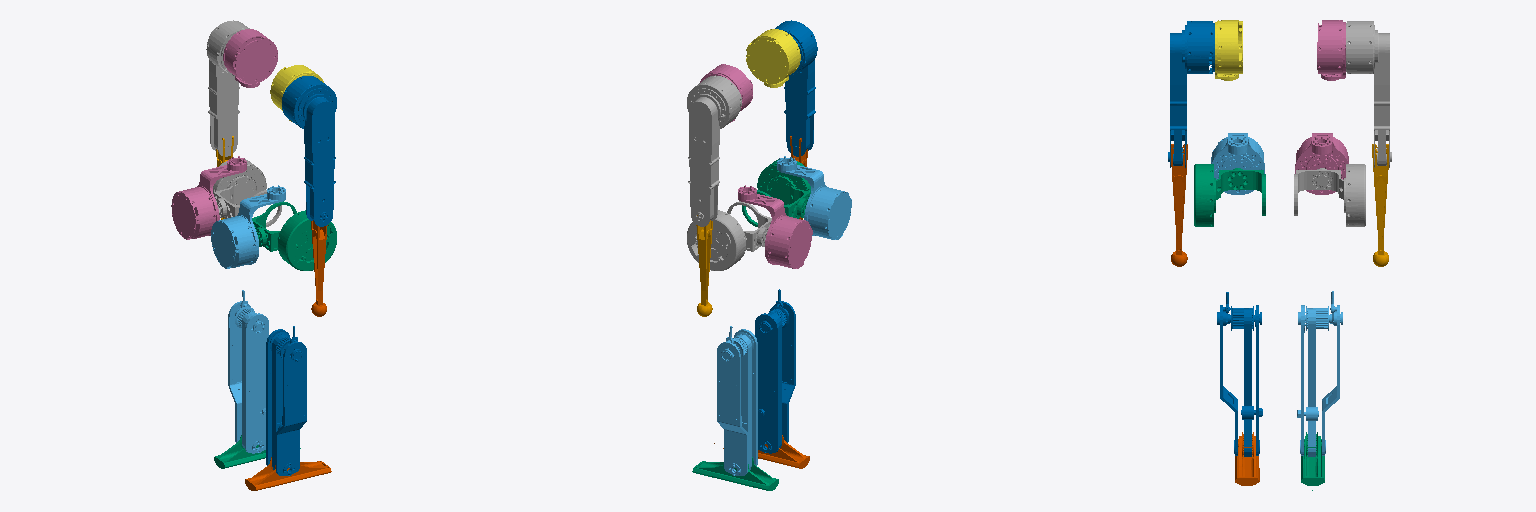
robot.urdf — humanoid:
<?xml version="1.0" encoding="utf-8"?>
<robot name="humanoid">
  <!-- ===== DUMMY 'BASE' LINK ==== -->
  <link name="torso">
    <inertial>
      <mass value="6.5"/>
      <origin xyz="0.0 0.0 0.15"/>
      <inertia ixx="0.3006167" ixy="0" ixz="0" iyy="0.23837" iyz="0" izz="0.09690467"/>
    </inertial>
    <visual>
      <geometry>
         <mesh filename="package://ocs2_robotic_assets/resources/humanoid/meshes_zidong_obj/Body.obj" scale="1 1 1"/>
      </geometry>
      <origin rpy="0 0 0" xyz="0 0 0"/>
    </visual>
  </link>
  <!--!!!!!!!!!!!!!!!!!!!!!RIGHT LEG!!!!!!!!!!!!!!!!!!!!!!!!!!!!!!!!!!!!!!!!!!!!!!!!-->
  <joint name="torso_to_R_HipRz" type="revolute">
    <axis xyz="0 0 1"/>
    <origin rpy="0 0 0" xyz="0.0 -0.075 0.0"/>
    <parent link="torso"/>
    <child link="R_HipRz"/>
    <limit lower="-3" upper="3" effort="33.6" velocity="55" />
  </joint>
  <link name="R_HipRz">
    <inertial>
      <mass value="0.30"/>
      <origin xyz="0.0 0.00 -0.04293"/>
      <inertia ixx="0.003735" ixy="0.0" ixz="0.0" iyy="0.01391" iyz="0.0" izz="0.01355"/>
    </inertial>
    <visual>
      <geometry>
         <mesh filename="package://ocs2_robotic_assets/resources/humanoid/meshes_zidong_obj/R_HipRz.obj" scale="1 1 1"/>
      </geometry>
      <origin rpy="0 0 0.0" xyz="0. 0. 0"/>
    </visual>
  </link>

  <joint name="R_HipRz_to_R_HipRx" type="revolute">
    <axis xyz="1 0 0"/>
    <origin rpy="0 0 0" xyz="-0.041 0.0 -0.0885"/>
    <parent link="R_HipRz"/>
    <child link="R_HipRx"/>
    <limit lower="-3" upper="3" effort="33.6" velocity="55" />
  </joint>
  <link name="R_HipRx">
    <inertial>
      <mass value="0.30"/>
      <origin xyz="0.0 0.0 -0.01"/>
      <inertia ixx="0.003735" ixy="0.0" ixz="0.0" iyy="0.01391" iyz="0.0" izz="0.01355"/>
    </inertial>
    <visual>
      <geometry>
         <mesh filename="package://ocs2_robotic_assets/resources/humanoid/meshes_zidong_obj/R_HipRx.obj" scale="1 1 1"/>
      </geometry>
      <origin rpy="0 -1.57 0.0" xyz="0. 0. 0"/>
    </visual>
  </link>

  <joint name="R_HipRx_to_R_Thigh" type="revolute">
    <axis xyz="0 1 0"/>
    <origin rpy="0 0 0" xyz="0.065 0.0 0.0"/>
    <parent link="R_HipRx"/>
    <child link="R_Thigh"/>
    <limit lower="-3" upper="3" effort="33.6" velocity="55" />
  </joint>
  <link name="R_Thigh">
    <inertial>
      <mass value="1.0"/>
      <origin xyz="0.0 0.0 -0.10"/>
      <inertia ixx="0.003735" ixy="0.0" ixz="0.0" iyy="0.01391" iyz="0.0" izz="0.01355"/>
    </inertial>
    <visual>
     <geometry>
          <mesh filename="package://ocs2_robotic_assets/resources/humanoid/meshes_zidong_obj/R_Thigh.obj" scale="1 1 1"/>
     </geometry>
      <origin rpy="0 1.57 -1.57" xyz="0.0 0.0 0.0"/>
    </visual>
  </link>

  <joint name="R_Knee" type="revolute">
    <axis xyz="0 1 0"/>
    <origin rpy="0 0 0" xyz="0.0 0.017875 -0.247"/>
    <parent link="R_Thigh"/>
    <child link="R_Shank"/>
    <limit lower="-3" upper="3" effort="33.6" velocity="55" />
  </joint>
  <link name="R_Shank">
    <inertial>
      <mass value="0.70"/>
      <origin xyz="-0.03416 -0.00075 -0.01"/>
      <inertia ixx="0.003735" ixy="0.0" ixz="0.0" iyy="0.01391" iyz="0.0" izz="0.01355"/>
    </inertial>
    <visual>
      <geometry>
         <mesh filename="package://ocs2_robotic_assets/resources/humanoid/meshes_zidong_obj/R_LowerLeg3_drawing.obj" scale="1 1 1"/>
      </geometry>
      <origin rpy="1.57 1.57 0.0" xyz="0. 0. 0"/>
    </visual>
  </link>

  <joint name="R_Ankle" type="revolute">
    <axis xyz="0 1 0"/>
    <origin rpy="0 0 0" xyz="0.0 0.0 -0.247"/>
    <parent link="R_Shank"/>
    <child link="R_Foot"/>
    <limit lower="-3" upper="3" effort="33.6" velocity="55" />
  </joint>
  <link name="R_Foot">
    <inertial>
      <mass value="0.30"/>
      <origin xyz="0.0 0.0 -0.01"/>
      <inertia ixx="0.003735" ixy="0.0" ixz="0.0" iyy="0.01391" iyz="0.0" izz="0.01355"/>
    </inertial>
    <visual>
      <geometry>
        <mesh filename="package://ocs2_robotic_assets/resources/humanoid/meshes_zidong_obj/R_foot_drawing.obj" scale="1 1 1"/>
      </geometry>
      <origin rpy="1.57 1.57 0" xyz="0. 0. 0."/>
    </visual>

    <visual>
        <geometry>
            <sphere radius="0.001"/>
        </geometry>
        <origin xyz="0.125 0.0 -0.033" rpy="0 0 0"/>
    </visual>
    <collision>
        <geometry>
            <sphere radius="0.0"/>
        </geometry>
        <origin xyz="0.125 0.0 -0.033" rpy="0 0 0"/>
    </collision>

    <visual>
        <geometry>
            <sphere radius="0.001"/>
        </geometry>
        <origin xyz="-0.025 0.0 -0.033" rpy="0 0 0"/>
    </visual>
    <collision>
        <geometry>
            <sphere radius="0.0"/>
        </geometry>
        <origin xyz="-0.025 0.0 -0.033" rpy="0 0 0"/>
    </collision>
  </link>

  <!--!!!!!!!!!!!!!!!!!!!!!LEFT LEG!!!!!!!!!!!!!!!!!!!!!!!!!!!!!!!!!!!!!!!!!!!!!!!!-->
  <joint name="torso_to_L_HipRz" type="revolute">
    <axis xyz="0 0 1"/>
    <origin rpy="0 0 0" xyz="0.0 0.075 0.0"/>
    <parent link="torso"/>
    <child link="L_HipRz"/>
    <limit lower="-3" upper="3" effort="33.6" velocity="55" />
  </joint>
  <link name="L_HipRz">
    <inertial>
      <mass value="0.30"/>
      <origin xyz="0.0 0.00 -0.04293"/>
      <inertia ixx="0.003735" ixy="0.0" ixz="0.0" iyy="0.01391" iyz="0.0" izz="0.01355"/>
    </inertial>
    <visual>
      <geometry>
         <mesh filename="package://ocs2_robotic_assets/resources/humanoid/meshes_zidong_obj/R_HipRz.obj" scale="1 1 1"/>
      </geometry>
      <origin rpy="0 0 0.0" xyz="0. 0. 0"/>
    </visual>
   </link>

  <joint name="L_HipRz_to_L_HipRx" type="revolute">
    <axis xyz="1 0 0"/>
    <origin rpy="0 0 0" xyz="-0.041 0.0 -0.0885"/>
    <parent link="L_HipRz"/>
    <child link="L_HipRx"/>
    <limit lower="-3" upper="3" effort="33.6" velocity="55" />
  </joint>
  <link name="L_HipRx">
    <inertial>
      <mass value="0.30"/>
      <origin xyz="0.0 0.0 -0.01"/>
      <inertia ixx="0.003735" ixy="0.0" ixz="0.0" iyy="0.01391" iyz="0.0" izz="0.01355"/>
    </inertial>
    <visual>
      <geometry>
         <mesh filename="package://ocs2_robotic_assets/resources/humanoid/meshes_zidong_obj/L_HipRx.obj" scale="1 1 1"/>
      </geometry>
      <origin rpy="0 -1.57 0.0" xyz="0. 0. 0"/>
    </visual>
   </link>

  <joint name="L_HipRx_to_L_Thigh" type="revolute">
    <axis xyz="0 1 0"/>
    <origin rpy="0 0 0" xyz="0.065 0.0 0.0"/>
    <parent link="L_HipRx"/>
    <child link="L_Thigh"/>
    <limit lower="-3" upper="3" effort="33.6" velocity="55" />
  </joint>
  <link name="L_Thigh">
    <inertial>
      <mass value="1.0"/>
      <origin xyz="0.0 0.0 -0.10"/>
      <inertia ixx="0.003735" ixy="0.0" ixz="0.0" iyy="0.01391" iyz="0.0" izz="0.01355"/>
    </inertial>
    <visual>
        <geometry>
          <mesh filename="package://ocs2_robotic_assets/resources/humanoid/meshes_zidong_obj/L_Thigh.obj" scale="1 1 1"/>
        </geometry>
      <origin rpy="0 1.57 -1.57" xyz="0.0 0.0 0.0"/>
    </visual>
   </link>

  <joint name="L_Knee" type="revolute">
    <axis xyz="0 1 0"/>
    <origin rpy="0 0 0" xyz="0.0 -0.017875 -0.247"/>
    <parent link="L_Thigh"/>
    <child link="L_Shank"/>
    <limit lower="-3" upper="3" effort="33.6" velocity="55" />
  </joint>
  <link name="L_Shank">
    <inertial>
      <mass value="0.70"/>
      <origin xyz="-0.03416 -0.00075 -0.01"/>
      <inertia ixx="0.003735" ixy="0.0" ixz="0.0" iyy="0.01391" iyz="0.0" izz="0.01355"/>
    </inertial>
    <visual>
      <geometry>
         <mesh filename="package://ocs2_robotic_assets/resources/humanoid/meshes_zidong_obj/L_LowerLeg3_drawing.obj" scale="1 1 1"/>
      </geometry>
      <origin rpy="1.57 1.57 0.0" xyz="0. 0. 0"/>
    </visual>
  </link>

  <joint name="L_Ankle" type="revolute">
    <axis xyz="0 1 0"/>
    <origin rpy="0 0 0" xyz="0.0 0.0 -0.247"/>
    <parent link="L_Shank"/>
    <child link="L_Foot"/>
    <limit lower="-3" upper="3" effort="33.6" velocity="55" />
  </joint>
  <link name="L_Foot">
    <inertial>
      <mass value="0.30"/>
      <origin xyz="0.0 0.0 -0.01"/>
      <inertia ixx="0.003735" ixy="0.0" ixz="0.0" iyy="0.01391" iyz="0.0" izz="0.01355"/>
    </inertial>
    <visual>
      <geometry>
        <mesh filename="package://ocs2_robotic_assets/resources/humanoid/meshes_zidong_obj/L_foot_drawing.obj" scale="1 1 1"/>
      </geometry>
      <origin rpy="1.57 1.57 0" xyz="0. 0. 0."/>
    </visual>

    <visual>
        <geometry>
            <sphere radius="0.001"/>
        </geometry>
        <origin xyz="0.125 0.0 -0.033" rpy="0 0 0"/>
    </visual>
    <collision>
        <geometry>
            <sphere radius="0.0"/>
        </geometry>
        <origin xyz="0.125 0.0 -0.033" rpy="0 0 0"/>
    </collision>

    <visual>
        <geometry>
            <sphere radius="0.001"/>
        </geometry>
        <origin xyz="-0.025 0.0 -0.033" rpy="0 0 0"/>
    </visual>
    <collision>
        <geometry>
            <sphere radius="0.0"/>
        </geometry>
        <origin xyz="-0.025 0.0 -0.033" rpy="0 0 0"/>
    </collision>
  </link>

  <!--!!!!!!!!!!!!!!!!!!!!!RIGHT ARM!!!!!!!!!!!!!!!!!!!!!!!!!!!!!!!!!!!!!!!!!!!!!!!!-->
  <joint name="torso_to_R_ShoulderRx" type="revolute">
    <axis xyz="1 0 0"/>
    <origin rpy="0 0 0" xyz="-0.0215 -0.1115 0.202"/>
    <parent link="torso"/>
    <child link="R_ShoulderRx"/>
    <limit lower="-3" upper="3" effort="33.6" velocity="55" />
  </joint>
  <link name="R_ShoulderRx">
    <inertial>
      <mass value="0.30"/>
      <origin xyz="0.01 0.0 0.0"/>
      <inertia ixx="0.003735" ixy="0.0" ixz="0.0" iyy="0.01391" iyz="0.0" izz="0.01355"/>
    </inertial>
    <visual>
      <geometry>
        <mesh filename="package://ocs2_robotic_assets/resources/humanoid/meshes_zidong_obj/R_ShoulderRx.obj" scale="1 1 1"/>
      </geometry>
      <origin rpy="0 0 0" xyz="0.06 0.02 -0.055"/>
    </visual>
   </link>

  <joint name="R_ShoulderRx_to_R_UpperArm" type="revolute">
    <axis xyz="0 1 0"/>
    <origin rpy="0 0 0" xyz="0.0545 0.0 0.0"/>
    <parent link="R_ShoulderRx"/>
    <child link="R_UpperArm"/>
    <limit lower="-3" upper="3" effort="33.6" velocity="55" />
  </joint>
  <link name="R_UpperArm">
    <inertial>
      <mass value="0.37"/>
      <origin xyz="0.0 0.0 -0.09"/>
      <inertia ixx="0.003735" ixy="0.0" ixz="0.0" iyy="0.01391" iyz="0.0" izz="0.01355"/>
    </inertial>
    <visual>
      <geometry>
        <mesh filename="package://ocs2_robotic_assets/resources/humanoid/meshes_zidong_obj/R_UpperArm.obj" scale="1 1 1"/>
      </geometry>
      <origin rpy="0 1.57 -1.57" xyz="0. -0.07 0"/>
    </visual>
  </link>

  <joint name="R_UpperArm_to_R_ForeArm" type="revolute">
    <axis xyz="0 1 0"/>
    <origin rpy="0 0 0" xyz="0.0 -0.068 -0.195"/>
    <parent link="R_UpperArm"/>
    <child link="R_ForeArm"/>
    <limit lower="-3" upper="3" effort="33.6" velocity="55" />
  </joint>
  <link name="R_ForeArm">
    <inertial>
      <mass value="0.1"/>
      <origin xyz="0.0 0.0 -0.04"/>
      <inertia ixx="0.003735" ixy="0.0" ixz="0.0" iyy="0.01391" iyz="0.0" izz="0.01355"/>
    </inertial>
    <visual>
      <geometry>
         <mesh filename="package://ocs2_robotic_assets/resources/humanoid/meshes_zidong_obj/L_ForeArm2.obj" scale="1 1 1"/>
      </geometry>
      <origin rpy="0 1.57 0" xyz="0.0 0.00 0"/>
    </visual>
  </link>

  <!--!!!!!!!!!!!!!!!!!!!!!LEFT ARM!!!!!!!!!!!!!!!!!!!!!!!!!!!!!!!!!!!!!!!!!!!!!!!!-->
  <joint name="torso_to_L_ShoulderRx" type="revolute">
    <axis xyz="1 0 0"/>
    <origin rpy="0 0 0" xyz="-0.0215 0.1115 0.202"/>
    <parent link="torso"/>
    <child link="L_ShoulderRx"/>
    <limit lower="-3" upper="3" effort="33.6" velocity="55" />
  </joint>
  <link name="L_ShoulderRx">
    <inertial>
      <mass value="0.30"/>
      <origin xyz="0.01 0.0 0.0"/>
      <inertia ixx="0.003735" ixy="0.0" ixz="0.0" iyy="0.01391" iyz="0.0" izz="0.01355"/>
    </inertial>
    <visual>
      <geometry>
        <mesh filename="package://ocs2_robotic_assets/resources/humanoid/meshes_zidong_obj/R_ShoulderRx.obj" scale="1 1 1"/>
      </geometry>
      <origin rpy="0 0 3.14" xyz="0.06 -0.02 -0.055"/>
    </visual>
   </link>

  <joint name="L_ShoulderRx_to_L_UpperArm" type="revolute">
    <axis xyz="0 1 0"/>
    <origin rpy="0 0 0" xyz="0.0545 0.0 0.0"/>
    <parent link="L_ShoulderRx"/>
    <child link="L_UpperArm"/>
    <limit lower="-3" upper="3" effort="33.6" velocity="55" />
  </joint>
  <link name="L_UpperArm">
    <inertial>
      <mass value="0.37"/>
      <origin xyz="0.0 0.0 -0.09"/>
      <inertia ixx="0.003735" ixy="0.0" ixz="0.0" iyy="0.01391" iyz="0.0" izz="0.01355"/>
    </inertial>
    <visual>
      <geometry>
        <mesh filename="package://ocs2_robotic_assets/resources/humanoid/meshes_zidong_obj/L_UpperArm.obj" scale="1 1 1"/>
      </geometry>
      <origin rpy="0 1.57 -1.57" xyz="0. 0.07 0"/>
    </visual>
  </link>

  <joint name="L_UpperArm_to_L_ForeArm" type="revolute">
    <axis xyz="0 1 0"/>
    <origin rpy="0 0 0" xyz="0.0 0.068 -0.195"/>
    <parent link="L_UpperArm"/>
    <child link="L_ForeArm"/>
    <limit lower="-3" upper="3" effort="33.6" velocity="55" />
  </joint>
  <link name="L_ForeArm">
    <inertial>
      <mass value="0.1"/>
      <origin xyz="0.0 0.0 -0.04"/>
      <inertia ixx="0.003735" ixy="0.0" ixz="0.0" iyy="0.01391" iyz="0.0" izz="0.01355"/>
    </inertial>
    <visual>
      <geometry>
         <mesh filename="package://ocs2_robotic_assets/resources/humanoid/meshes_zidong_obj/L_ForeArm2.obj" scale="1 1 1"/>
      </geometry>
      <origin rpy="0 1.57 0" xyz="0.0 0.0 0"/>
    </visual>
  </link>

  <!--!!!!!!!!!!!!!!!!!!!!!transmission!!!!!!!!!!!!!!!!!!!!!!!!!!!!!!!!!!!!!!!!!!!!!!!!-->
  <transmission name="torso_to_R_HipRz-trans" type="transmission_interface/SimpleTransmission">
          <actuator name="torso_to_R_HipRz-motor"/>
          <joint name="torso_to_R_HipRz"/>
          <mechanicalReduction>1</mechanicalReduction>
  </transmission>
  <transmission name="R_HipRz_to_R_HipRx-trans" type="transmission_interface/SimpleTransmission">
          <actuator name="R_HipRz_to_R_HipRx-motor"/>
          <joint name="R_HipRz_to_R_HipRx"/>
          <mechanicalReduction>1</mechanicalReduction>
  </transmission>
  <transmission name="R_HipRx_to_R_Thigh-trans" type="transmission_interface/SimpleTransmission">
          <actuator name="R_HipRx_to_R_Thigh-motor"/>
          <joint name="R_HipRx_to_R_Thigh"/>
          <mechanicalReduction>1</mechanicalReduction>
  </transmission>
  <transmission name="R_Knee-trans" type="transmission_interface/SimpleTransmission">
          <actuator name="R_Knee-motor"/>
          <joint name="R_Knee"/>
          <mechanicalReduction>1</mechanicalReduction>
  </transmission>
  <transmission name="R_Ankle-trans" type="transmission_interface/SimpleTransmission">
          <actuator name="R_Ankle-motor"/>
          <joint name="R_Ankle"/>
          <mechanicalReduction>1</mechanicalReduction>
  </transmission>



  <transmission name="torso_to_L_HipRz-trans" type="transmission_interface/SimpleTransmission">
          <actuator name="torso_to_L_HipRz-motor"/>
          <joint name="torso_to_L_HipRz"/>
          <mechanicalReduction>1</mechanicalReduction>
  </transmission>
  <transmission name="L_HipRz_to_L_HipRx-trans" type="transmission_interface/SimpleTransmission">
          <actuator name="L_HipRz_to_L_HipRx-motor"/>
          <joint name="L_HipRz_to_L_HipRx"/>
          <mechanicalReduction>1</mechanicalReduction>
  </transmission>
  <transmission name="L_HipRx_to_L_Thigh-trans" type="transmission_interface/SimpleTransmission">
          <actuator name="L_HipRx_to_L_Thigh-motor"/>
          <joint name="L_HipRx_to_L_Thigh"/>
          <mechanicalReduction>1</mechanicalReduction>
  </transmission>
  <transmission name="L_Knee-trans" type="transmission_interface/SimpleTransmission">
          <actuator name="L_Knee-motor"/>
          <joint name="L_Knee"/>
          <mechanicalReduction>1</mechanicalReduction>
  </transmission>
  <transmission name="L_Ankle-trans" type="transmission_interface/SimpleTransmission">
          <actuator name="L_Ankle-motor"/>
          <joint name="L_Ankle"/>
          <mechanicalReduction>1</mechanicalReduction>
  </transmission>



  <transmission name="torso_to_R_ShoulderRx-trans" type="transmission_interface/SimpleTransmission">
          <actuator name="torso_to_R_ShoulderRx-motor"/>
          <joint name="torso_to_R_ShoulderRx"/>
          <mechanicalReduction>1</mechanicalReduction>
  </transmission>
  <transmission name="R_ShoulderRx_to_R_UpperArm-trans" type="transmission_interface/SimpleTransmission">
          <actuator name="R_ShoulderRx_to_R_UpperArm-motor"/>
          <joint name="R_ShoulderRx_to_R_UpperArm"/>
          <mechanicalReduction>1</mechanicalReduction>
  </transmission>
  <transmission name="R_UpperArm_to_R_ForeArm-trans" type="transmission_interface/SimpleTransmission">
          <actuator name="R_UpperArm_to_R_ForeArm-motor"/>
          <joint name="R_UpperArm_to_R_ForeArm"/>
          <mechanicalReduction>1</mechanicalReduction>
  </transmission>



  <transmission name="torso_to_L_ShoulderRx-trans" type="transmission_interface/SimpleTransmission">
          <actuator name="torso_to_L_ShoulderRx-motor"/>
          <joint name="torso_to_L_ShoulderRx"/>
          <mechanicalReduction>1</mechanicalReduction>
  </transmission>
  <transmission name="L_ShoulderRx_to_L_UpperArm-trans" type="transmission_interface/SimpleTransmission">
          <actuator name="L_ShoulderRx_to_L_UpperArm-motor"/>
          <joint name="L_ShoulderRx_to_L_UpperArm"/>
          <mechanicalReduction>1</mechanicalReduction>
  </transmission>
  <transmission name="L_UpperArm_to_L_ForeArm-trans" type="transmission_interface/SimpleTransmission">
          <actuator name="L_UpperArm_to_L_ForeArm-motor"/>
          <joint name="L_UpperArm_to_L_ForeArm"/>
          <mechanicalReduction>1</mechanicalReduction>
  </transmission>
  
</robot>



--- Render facts (derived) ---
3 views of the same robot in one strip: view 1: azimuth 30°, elevation 25°; view 2: azimuth 150°, elevation 25°; view 3: azimuth 270°, elevation 25° (orthographic).
Model humanoid with 17 links and 16 joints (16 revolute), rooted at torso, posed all joints at 0.
Visible links, largest first — view 1: R_Shank, R_UpperArm, L_Shank, L_UpperArm, R_HipRz, L_HipRz, R_HipRx, L_ShoulderRx, L_HipRx, R_Foot, R_ForeArm, R_ShoulderRx (+1 smaller); view 2: L_Shank, L_UpperArm, R_Shank, R_UpperArm, L_HipRz, R_HipRz, L_HipRx, R_ShoulderRx, R_HipRx, L_Foot, L_ForeArm, L_ShoulderRx (+1 smaller); view 3: R_UpperArm, L_UpperArm, L_Shank, R_Shank, R_HipRx, L_HipRx, L_HipRz, R_HipRz, L_ShoulderRx, R_ShoulderRx, R_ForeArm, L_ForeArm (+2 smaller).
Boxes of the visible links, x1,y1,x2,y2 form: R_Shank: (266,326,306,475); R_UpperArm: (282,76,336,226); L_Shank: (228,290,268,453); L_UpperArm: (206,20,249,156); R_HipRz: (211,185,285,268); L_HipRz: (171,156,246,239); R_HipRx: (252,201,336,270); L_ShoulderRx: (223,29,277,87); L_HipRx: (213,159,281,226); R_Foot: (245,457,331,490); R_ForeArm: (311,220,327,316); R_ShoulderRx: (270,65,323,121); L_Shank: (717,326,757,475); L_UpperArm: (687,75,741,226); R_Shank: (755,289,795,453); R_UpperArm: (775,20,817,156); L_HipRz: (738,185,812,268); R_HipRz: (777,156,851,239); L_HipRx: (687,201,771,270); R_ShoulderRx: (746,29,800,87); R_HipRx: (742,159,810,226); L_Foot: (692,457,778,490); L_ForeArm: (696,215,712,316); L_ShoulderRx: (700,64,752,122); R_UpperArm: (1168,21,1214,167); L_UpperArm: (1346,21,1391,167); L_Shank: (1297,291,1342,456); R_Shank: (1217,292,1262,456); R_HipRx: (1194,164,1265,226); L_HipRx: (1294,164,1365,226); L_HipRz: (1295,133,1348,194); R_HipRz: (1211,133,1264,194); L_ShoulderRx: (1317,20,1345,80); R_ShoulderRx: (1215,20,1242,80); R_ForeArm: (1171,144,1187,266); L_ForeArm: (1372,144,1388,266).
Size in the robot's own frame: 0.266 by 0.398 by 0.8737 metres.
Meshes: 14 distinct files referenced, 14 mesh visuals loaded (11 OBJ); not drawn: 3 (reference not matched to a file when rendering).